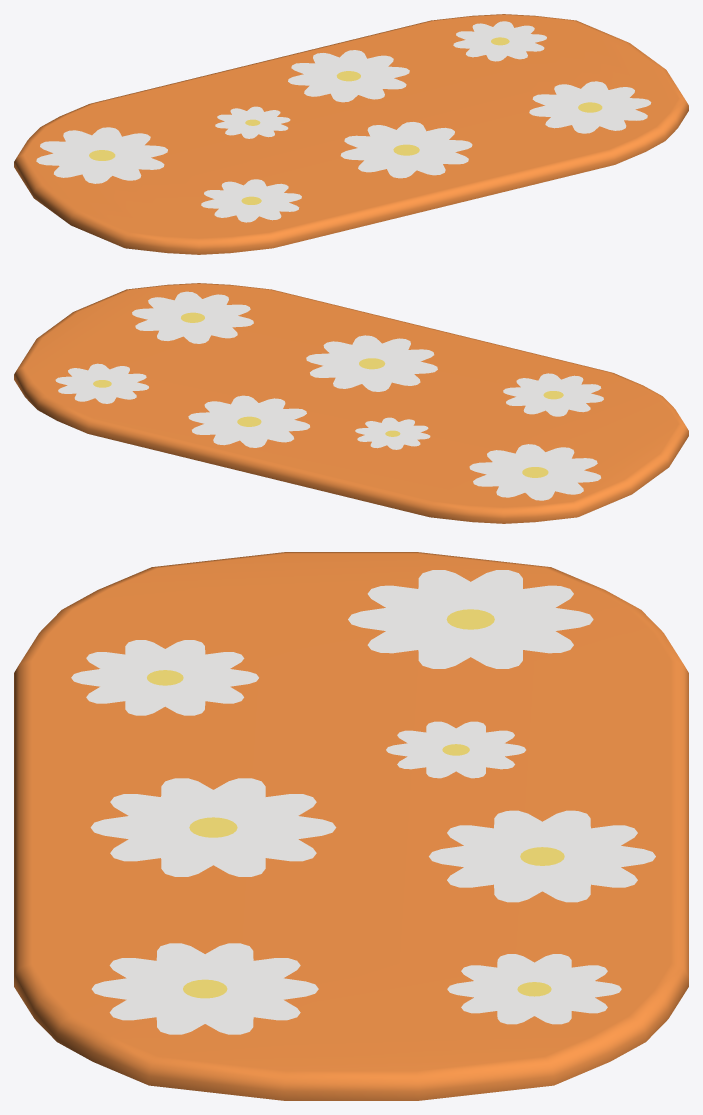
File: Carpet_10.glb
3 renders of one model, top to bottom at view 1: azimuth 30°, elevation 25°; view 2: azimuth 150°, elevation 25°; view 3: azimuth 270°, elevation 25°, orthographic. The views are drawn at different scales.
Visible parts, largest first — view 1: Carpet_10; view 2: Carpet_10; view 3: Carpet_10.
Boxes of the visible parts, x1,y1,x2,y2 form: Carpet_10: (14, 14, 688, 254); Carpet_10: (14, 283, 688, 523); Carpet_10: (14, 552, 688, 1100).
Bounding box in the file's own units: 2.4 × 0.0471 × 1.29.
1 material, 1 textured.
